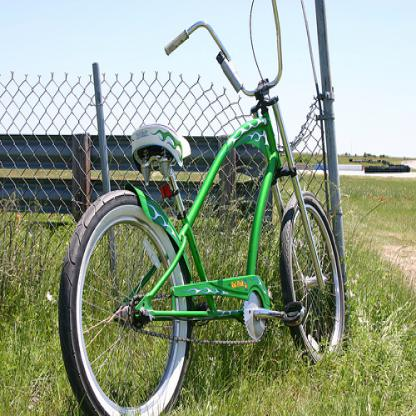bicycle: (58, 0, 346, 415)
